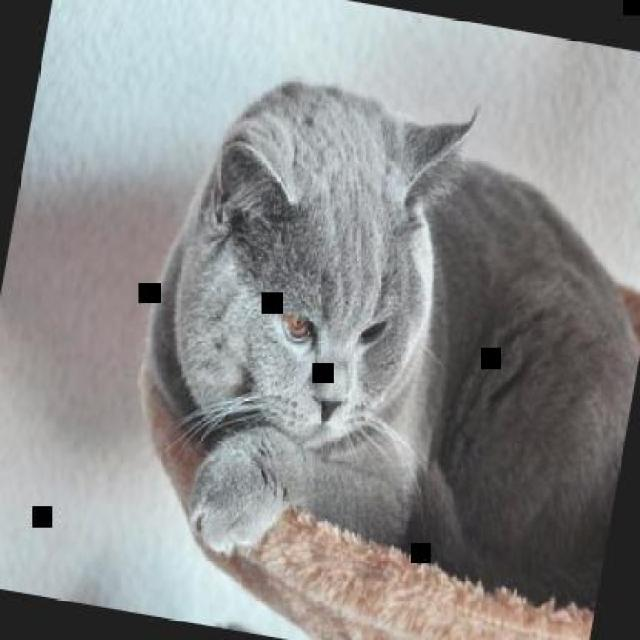cat: (110, 57, 638, 620)
